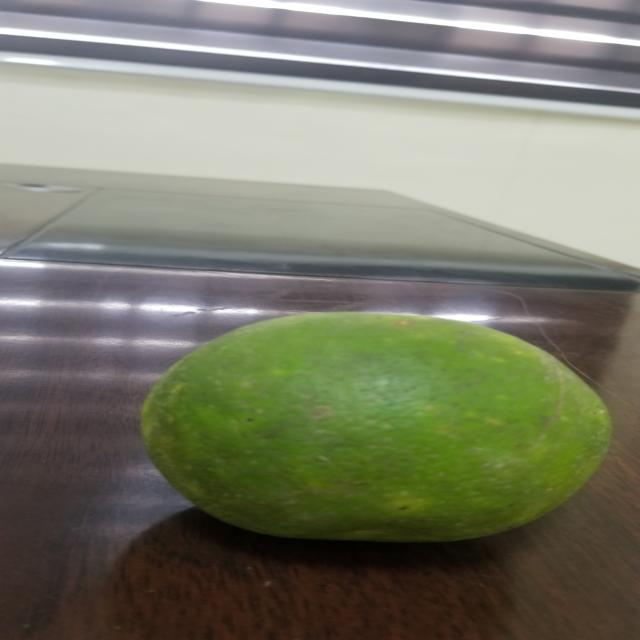Ripe orange: (114, 314, 640, 559)
